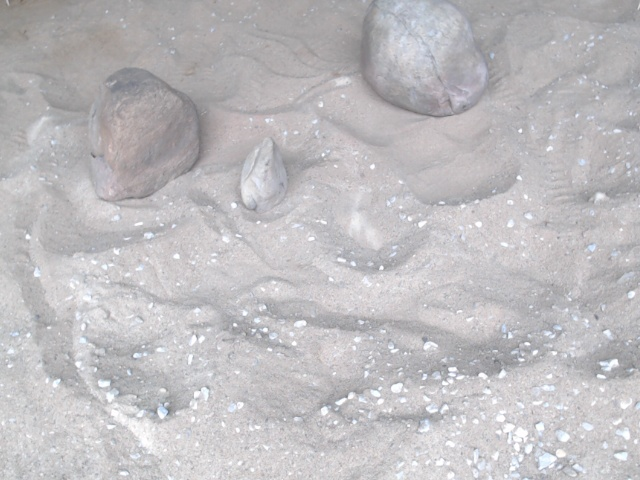rock: (81, 61, 207, 207), (355, 1, 495, 124), (232, 133, 293, 218)
